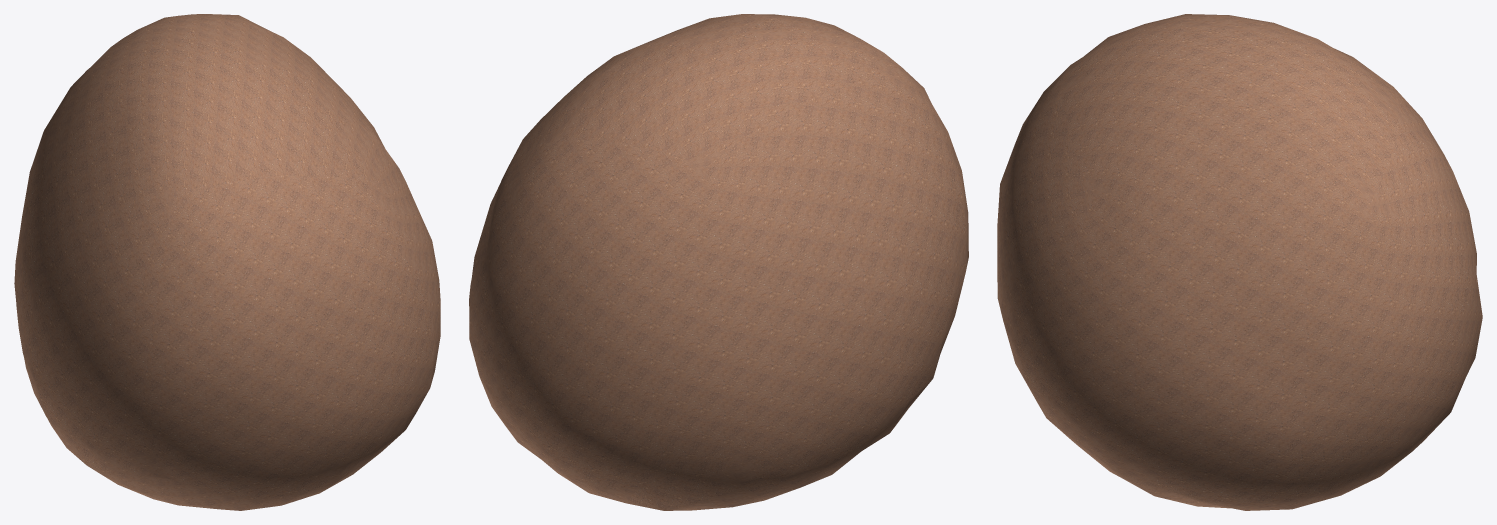
File: Graham Rush _ Graham Ball.fbx
3 renders of one model, left to right at view 1: azimuth 30°, elevation 25°; view 2: azimuth 150°, elevation 25°; view 3: azimuth 270°, elevation 25°, orthographic. The views are drawn at different scales.
Parts seen in each view (by area): view 1: Graham; view 2: Graham; view 3: Graham.
Boxes of the visible parts, x1=… form: Graham: x1=14, y1=14, x2=440, y2=510; Graham: x1=469, y1=14, x2=968, y2=510; Graham: x1=997, y1=14, x2=1482, y2=510.
Size of the model in its own units: 137 by 156 by 154.
Materials: 1 (1 with a texture image).
